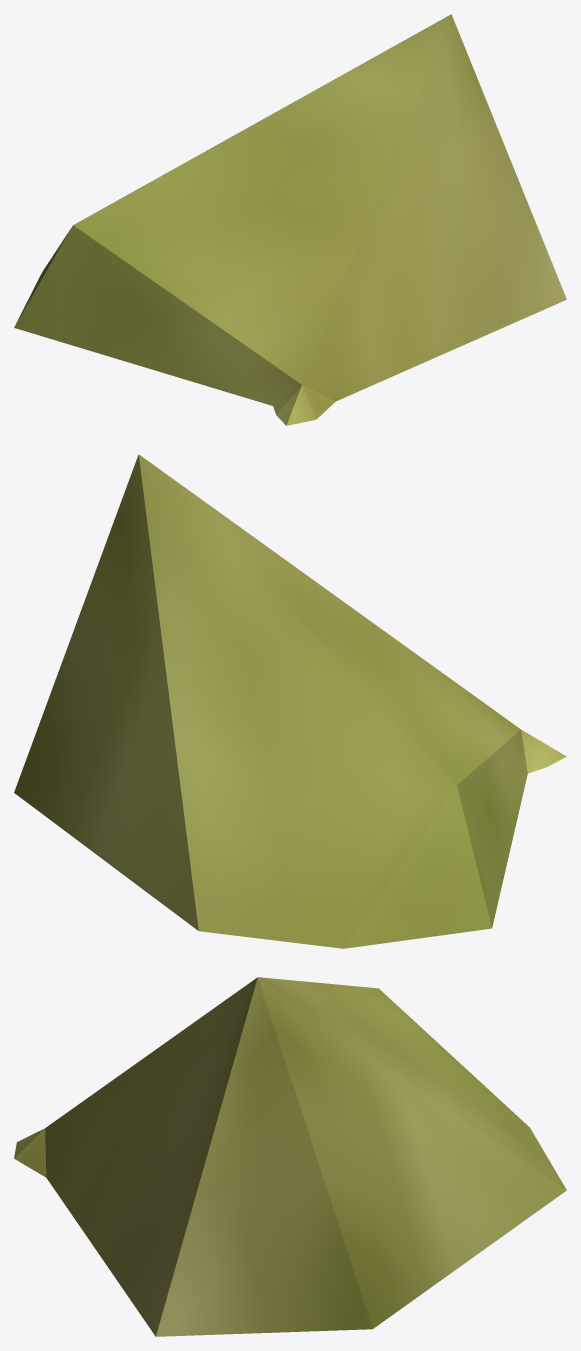
3 renders of one model, top to bottom at view 1: azimuth 30°, elevation 25°; view 2: azimuth 150°, elevation 25°; view 3: azimuth 270°, elevation 25°, orthographic. The views are drawn at different scales.
Bounding box in the file's own units: 0.4143 × 0.2421 × 0.3811.
Materials: 1 (1 with a texture image).
